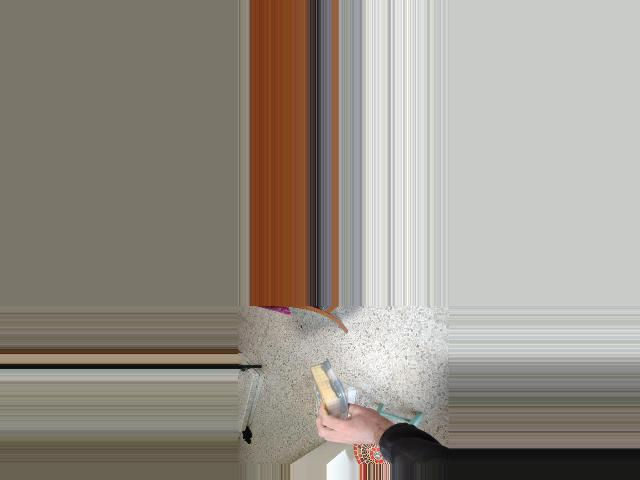cheese: (305, 355, 355, 432)
